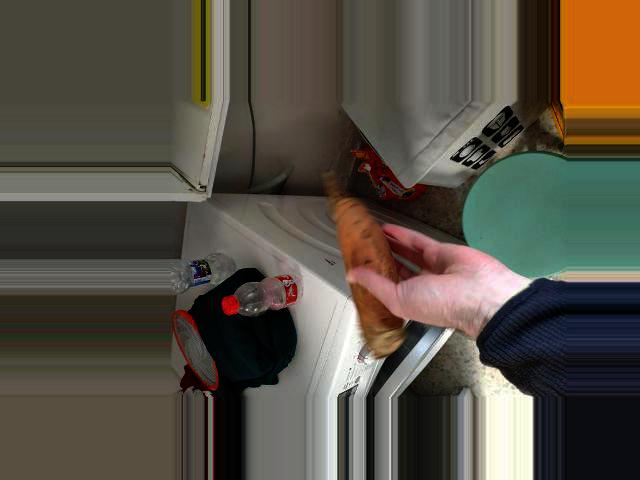sweet_potato: (316, 177, 411, 346)
